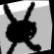not correct: (0, 0, 51, 54)
